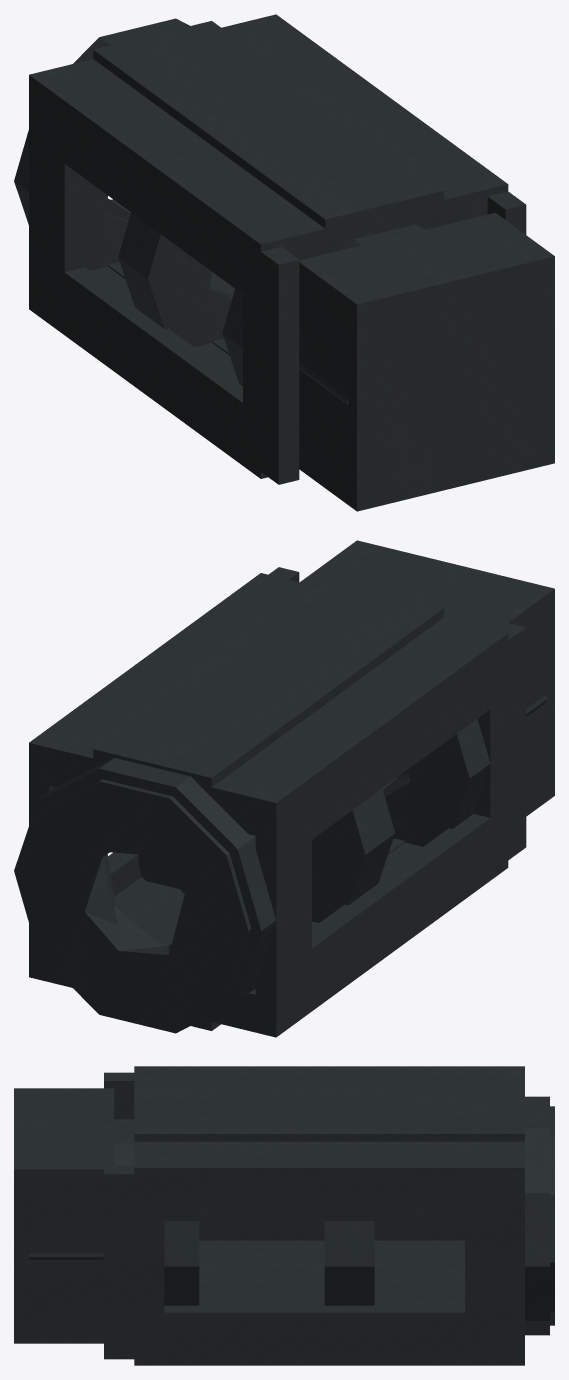
File: aug_muzzle.glb
The picture shows the model from 3 angles, top to bottom: view 1: azimuth 30°, elevation 25°; view 2: azimuth 150°, elevation 25°; view 3: azimuth 270°, elevation 25°; orthographic projection. The views are drawn at different scales.
Visible parts, largest first — view 1: muzzle__aug_muzzle_LOD1_RAID_Secondary_Original_steel, muzzle__aug_muzzle_LOD0_RAID_Secondary_Original_steel; view 2: muzzle__aug_muzzle_LOD1_RAID_Secondary_Original_steel, muzzle__aug_muzzle_LOD0_RAID_Secondary_Original_steel; view 3: muzzle__aug_muzzle_LOD1_RAID_Secondary_Original_steel, muzzle__aug_muzzle_LOD0_RAID_Secondary_Original_steel.
Boxes of the visible parts, x1,y1,x2,y2 form: muzzle__aug_muzzle_LOD1_RAID_Secondary_Original_steel: [29, 14, 554, 511]; muzzle__aug_muzzle_LOD0_RAID_Secondary_Original_steel: [14, 18, 443, 405]; muzzle__aug_muzzle_LOD1_RAID_Secondary_Original_steel: [29, 540, 554, 1037]; muzzle__aug_muzzle_LOD0_RAID_Secondary_Original_steel: [14, 579, 546, 1033]; muzzle__aug_muzzle_LOD1_RAID_Secondary_Original_steel: [14, 1066, 524, 1365]; muzzle__aug_muzzle_LOD0_RAID_Secondary_Original_steel: [29, 1085, 554, 1335].
Bounding box in the file's own units: 0.048 × 0.0469 × 0.108.
1 material, 1 textured.
